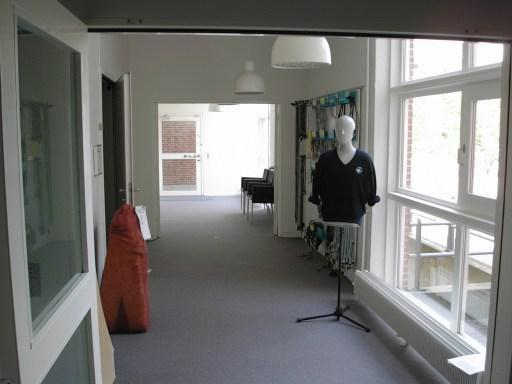Otro Obstaculo: (298, 113, 375, 340), (106, 203, 150, 340)
Puerta: (7, 24, 87, 378), (104, 70, 135, 205), (161, 116, 201, 196)
Ventana: (377, 38, 483, 354)
